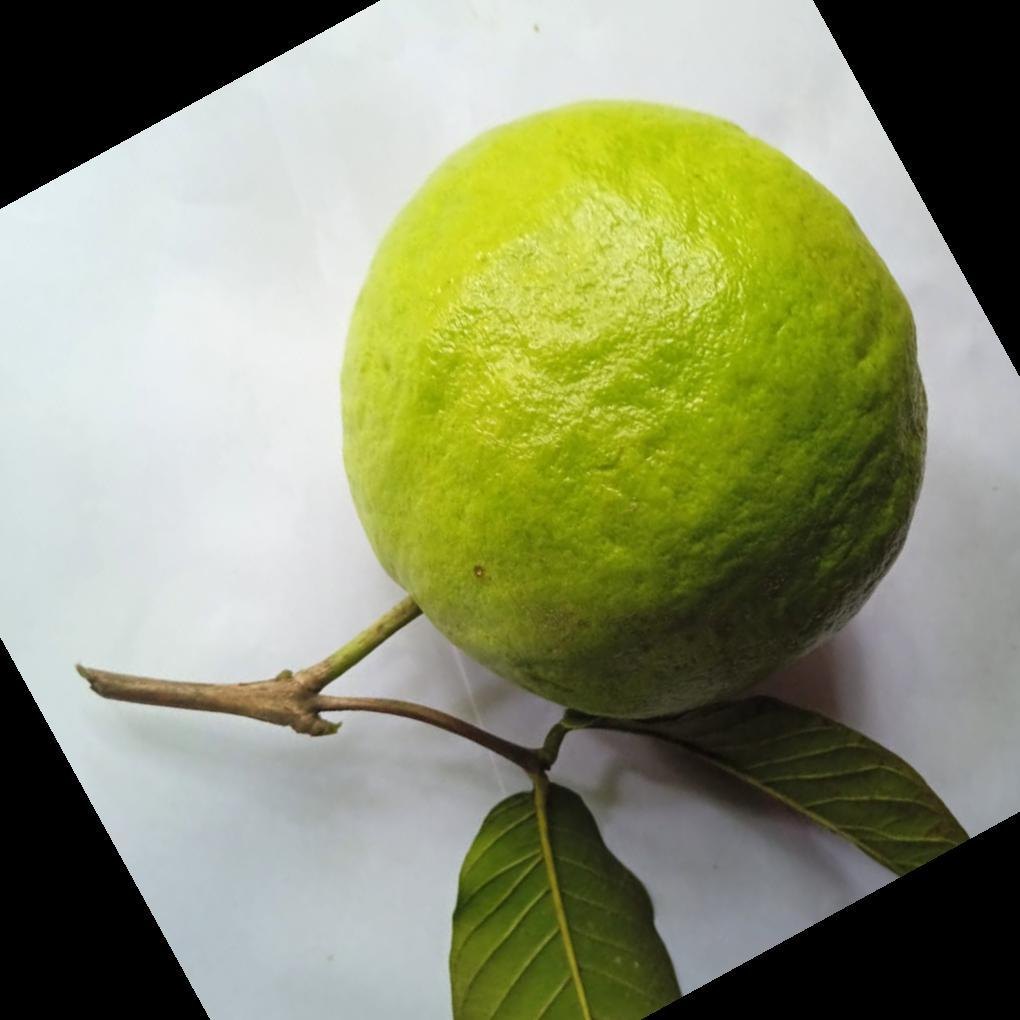FreshGuava: (336, 98, 929, 740)
